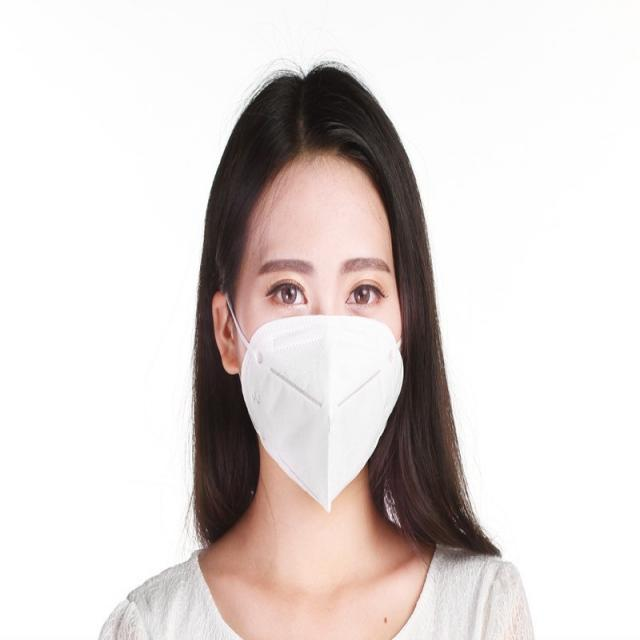mask: (235, 170, 402, 490)
